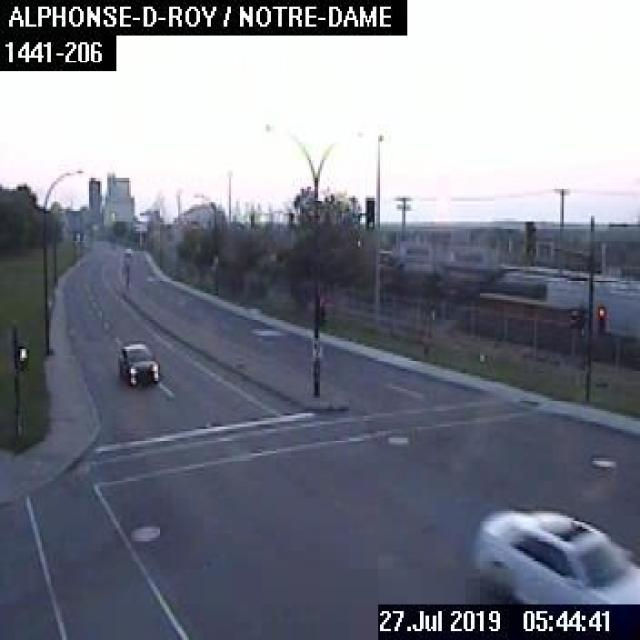vehicle: (473, 506, 638, 604), (115, 340, 160, 389)
